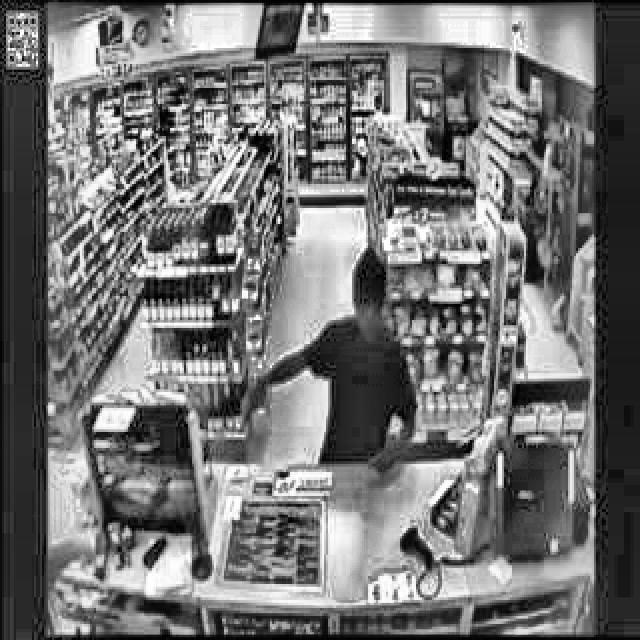robbery: (232, 248, 422, 481)
